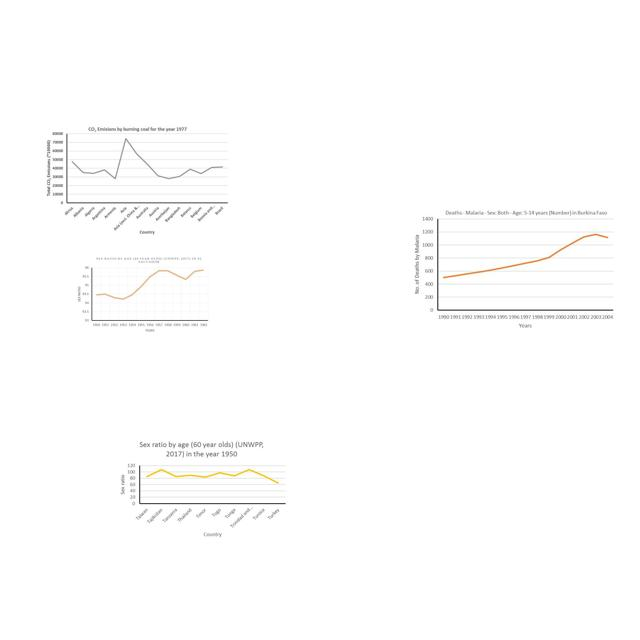Graph: (411, 207, 617, 329), (45, 126, 228, 235), (114, 437, 289, 541), (74, 255, 210, 335)
